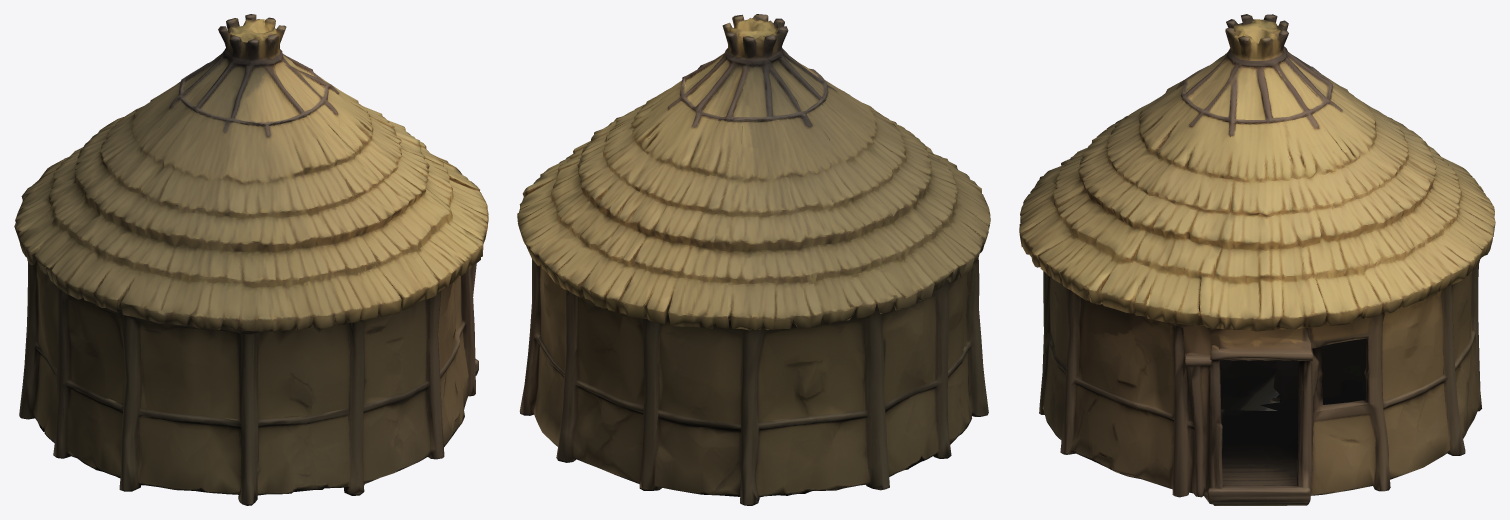
File: hut_small.glb
3 renders of one model, left to right at view 1: azimuth 30°, elevation 25°; view 2: azimuth 150°, elevation 25°; view 3: azimuth 270°, elevation 25°, orthographic.
Visible parts, largest first — view 1: world; view 2: world; view 3: world.
Boxes of the visible parts, bbox=[...] form: world: bbox=[14, 14, 488, 505]; world: bbox=[517, 14, 990, 505]; world: bbox=[1019, 14, 1495, 505].
Bounding box in the file's own units: 0.9969 × 0.8999 × 1.
1 material, 1 textured.
